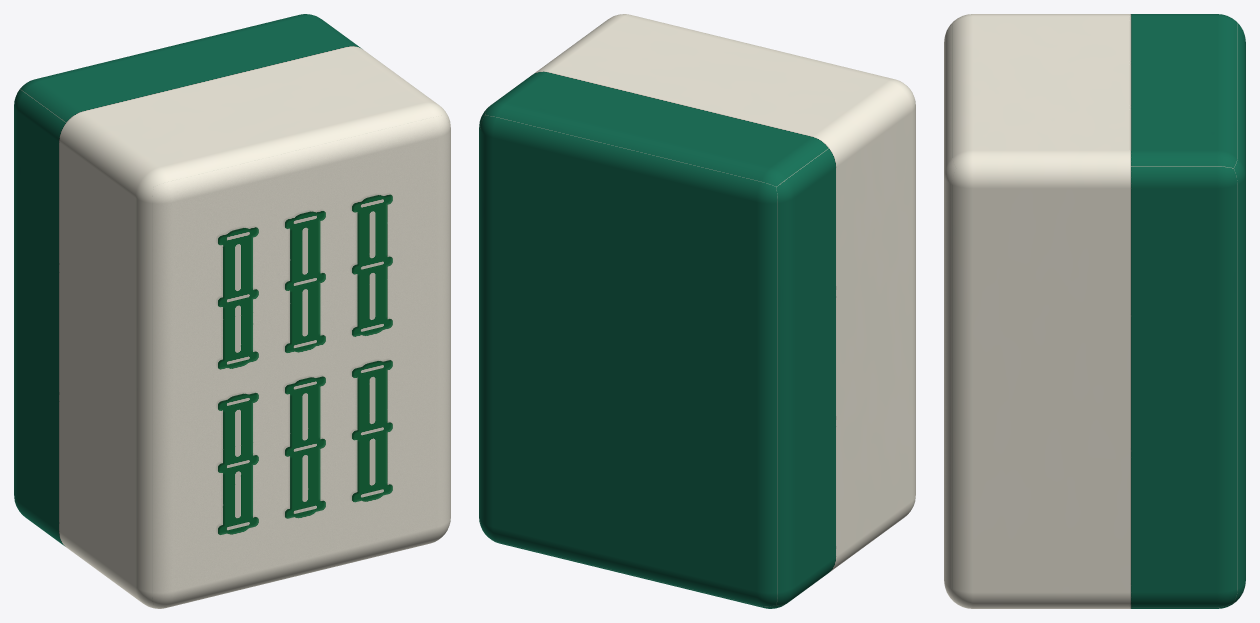
Rendered from tile_6s.obj.
3 views of the same model, side by side, from view 1: azimuth 30°, elevation 25°; view 2: azimuth 150°, elevation 25°; view 3: azimuth 270°, elevation 25° (orthographic). The views are drawn at different scales.
Parts seen in each view (by area): view 1: tile_6s; view 2: tile_6s; view 3: tile_6s.
Part boxes in pixels (x1,y1,x2,y2): tile_6s: (14,14,450,608); tile_6s: (479,14,915,608); tile_6s: (944,14,1245,608).
Size of the model in its own units: 0.026 by 0.035 by 0.021.
Materials: 1 (1 with a texture image).
